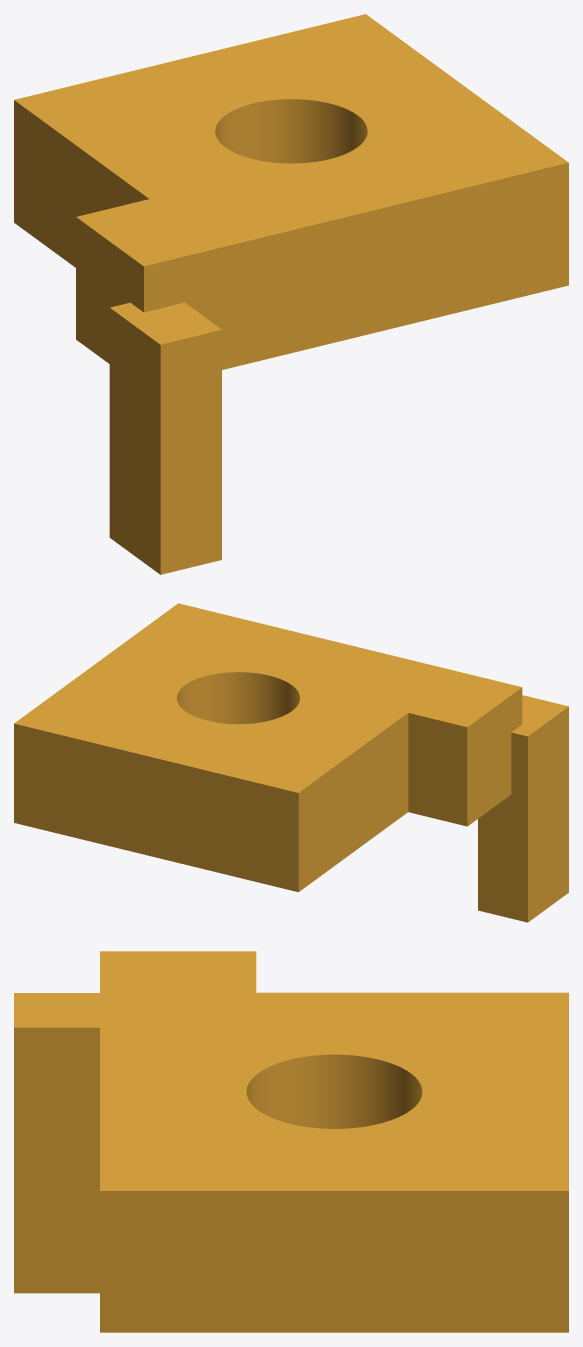
The model's file is jetson_gate_right.glb.
3 renders of one model, top to bottom at view 1: azimuth 30°, elevation 25°; view 2: azimuth 150°, elevation 25°; view 3: azimuth 270°, elevation 25°, orthographic. The views are drawn at different scales.
Visible parts, largest first — view 1: jetson_gate_right; view 2: jetson_gate_right; view 3: jetson_gate_right.
Part boxes in pixels (x1,y1,x2,y2): jetson_gate_right: [14, 14, 568, 574]; jetson_gate_right: [14, 603, 568, 922]; jetson_gate_right: [14, 951, 568, 1332].
Bounding box in the file's own units: 0.0152 × 0.009 × 0.0142.
